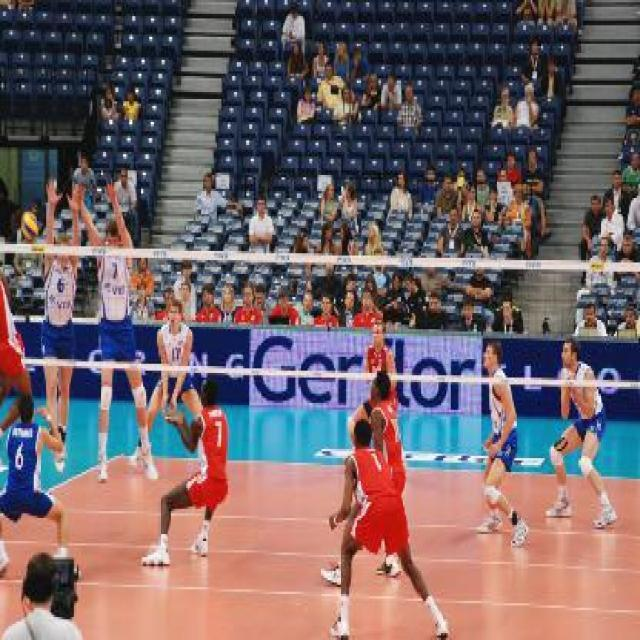volleyball: (21, 211, 40, 240)
